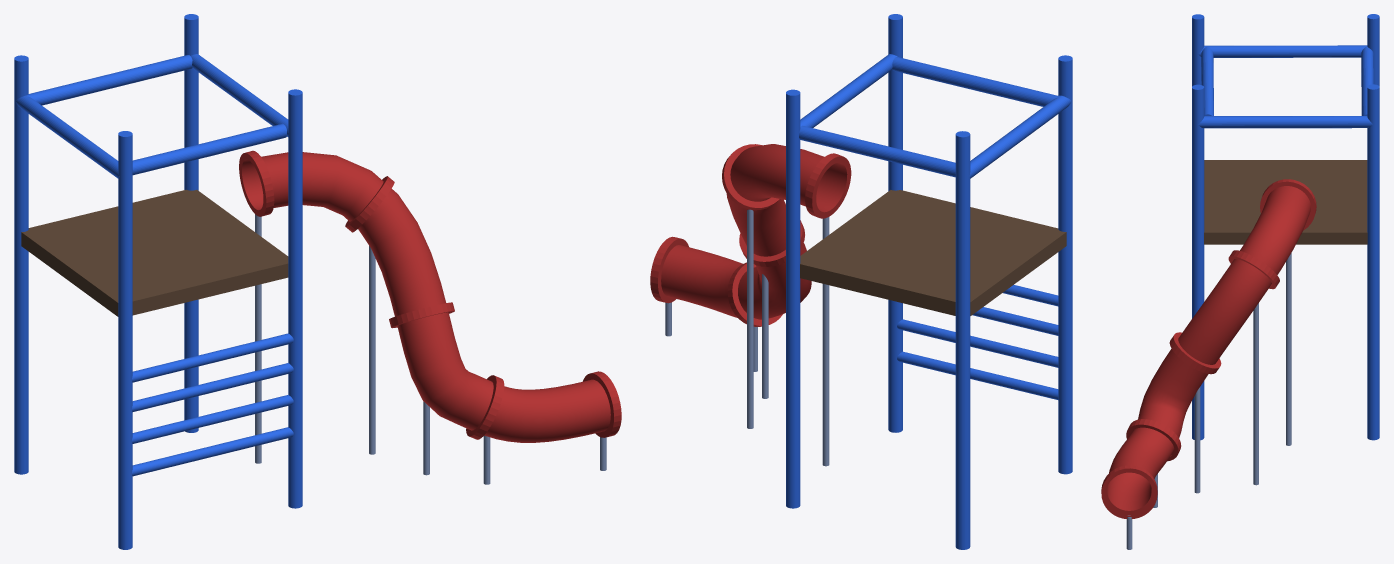
Rendered from toboganL.glb.
The picture shows the model from 3 angles, left to right: view 1: azimuth 30°, elevation 25°; view 2: azimuth 150°, elevation 25°; view 3: azimuth 270°, elevation 25°; orthographic projection. The views are drawn at different scales.
Visible parts, largest first — view 1: Cylinder.008, slide, Cube; view 2: Cylinder.008, slide, Cube; view 3: slide, Cylinder.008, Cube.
Boxes of the visible parts, box(x1,y1,x2,y2) form: Cylinder.008: box(14, 14, 302, 549); slide: box(239, 150, 621, 484); Cube: box(21, 189, 288, 316); Cylinder.008: box(786, 14, 1072, 549); slide: box(650, 144, 851, 466); Cube: box(800, 190, 1066, 315); slide: box(1101, 179, 1316, 549); Cylinder.008: box(1192, 14, 1379, 440); Cube: box(1204, 160, 1367, 244).
Bounding box in the file's own units: 19.97 × 17.62 × 12.67.
